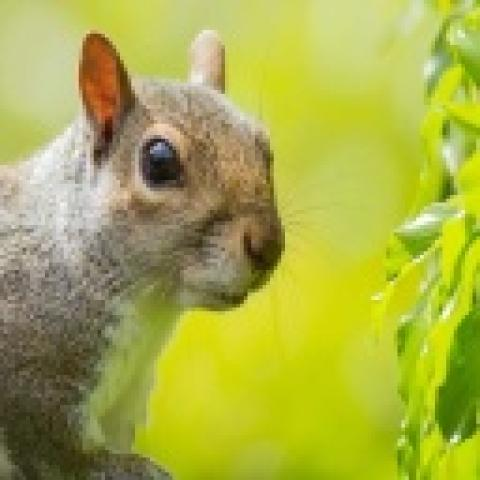small_animal: (0, 26, 289, 476)
